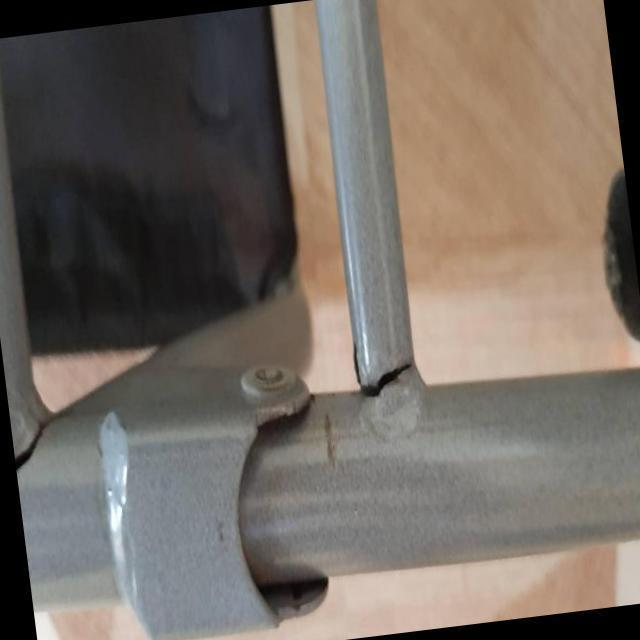defect: (350, 330, 414, 401)
